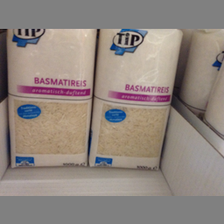rice: (89, 29, 184, 170), (6, 30, 96, 166)
